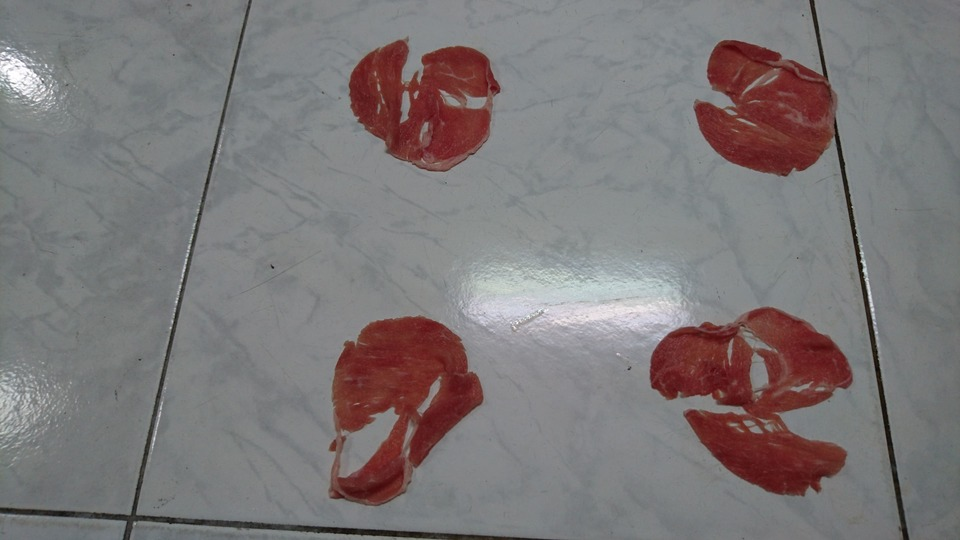restructured meat: (288, 309, 492, 506), (653, 306, 864, 496), (682, 30, 853, 189), (345, 28, 505, 174)
